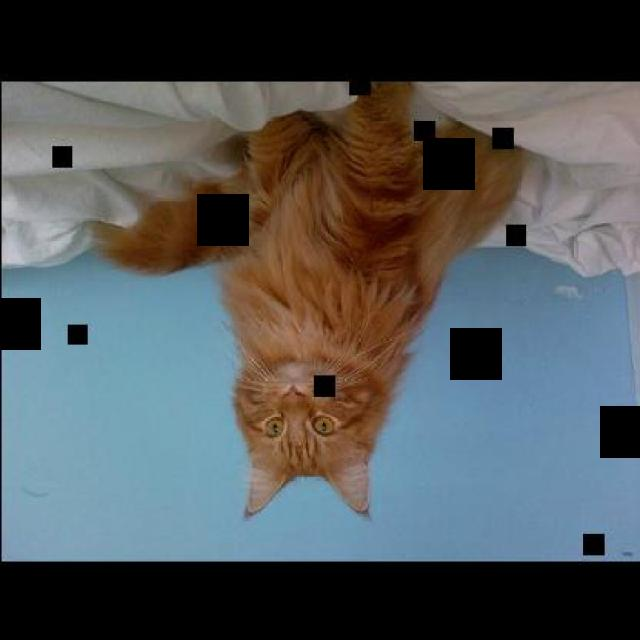unauthorized: (85, 80, 526, 518)
